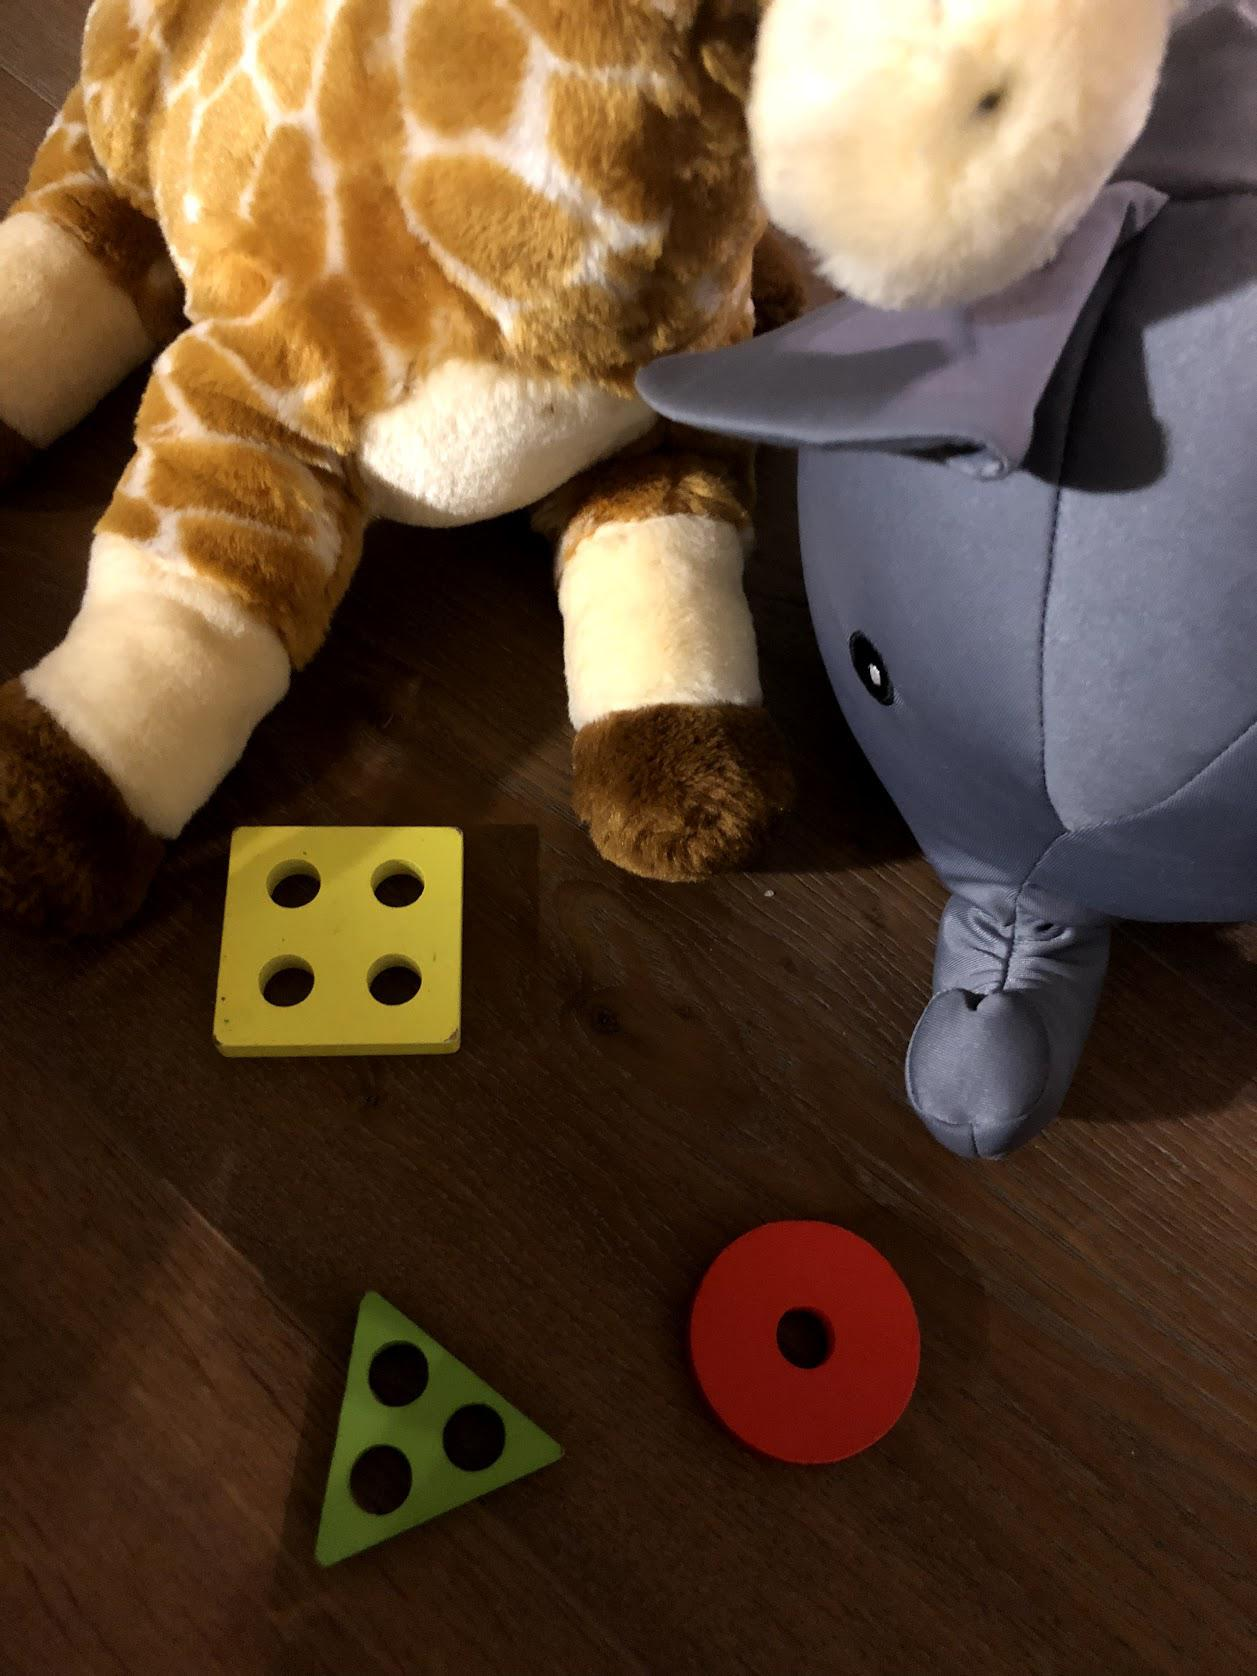Circle: (683, 1211, 935, 1470)
Square: (206, 821, 466, 1052)
Triangle: (302, 1279, 574, 1570)
